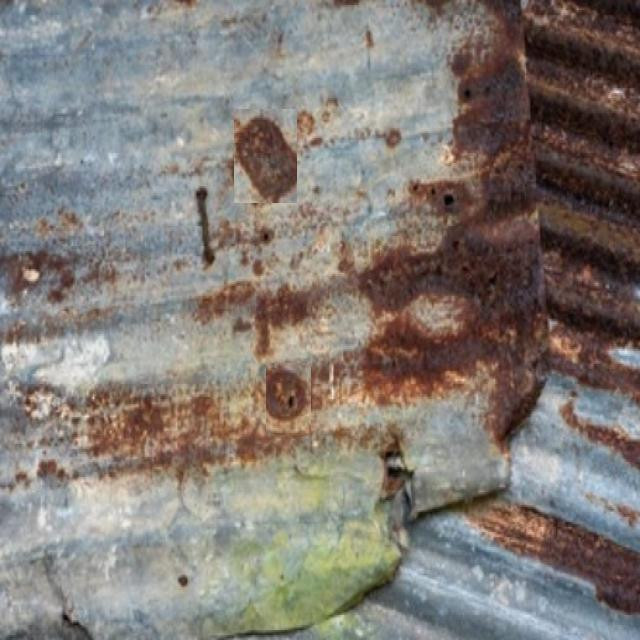Corrosion: (404, 10, 547, 370), (525, 0, 640, 400), (328, 249, 494, 405), (461, 497, 640, 616), (234, 108, 297, 204)
